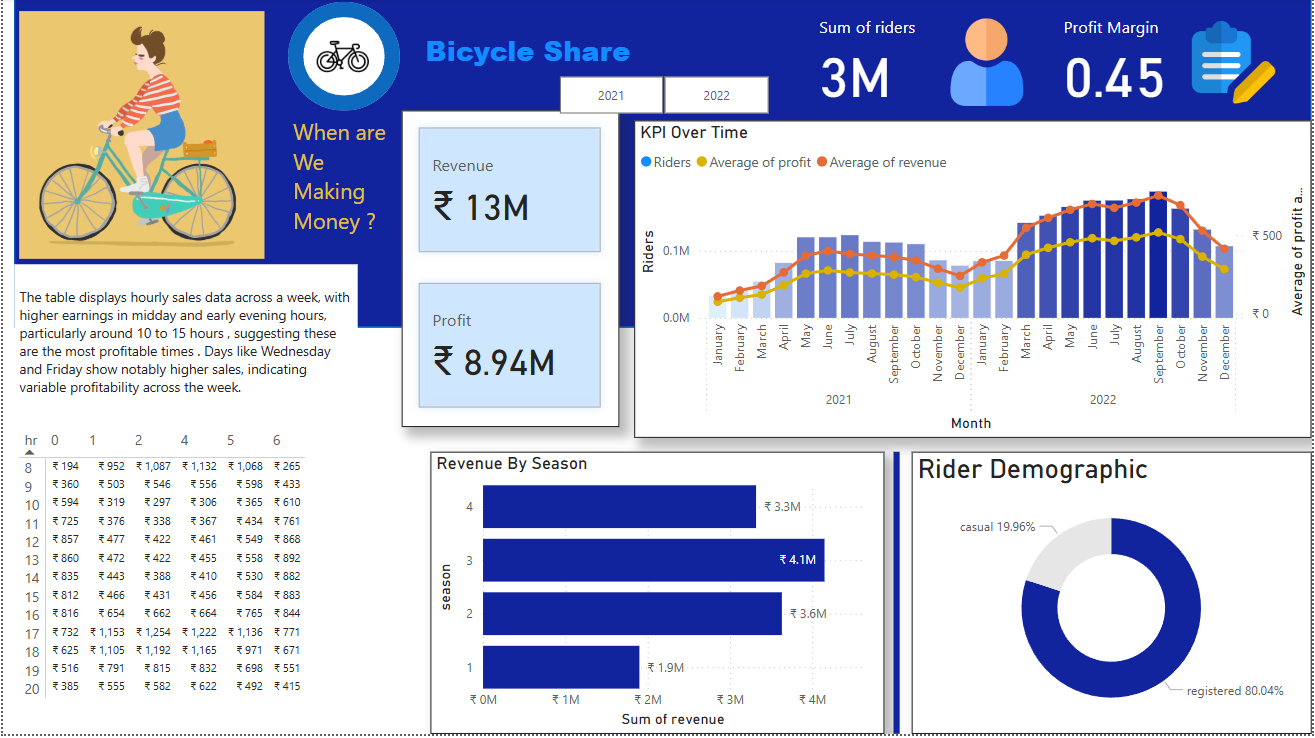

The dashboard page shown, as its layout file describes it:
{"tool":"powerbi","page":{"name":"Bicycle ","canvas":[1280,720],"ordinal":0},"visuals":[{"type":"shape","box":[10.7,0,1269,322.1],"z":0},{"type":"pivotTable","fields":{"Rows":["Query1.hr"],"Values":["Avg(Query1.revenue)"],"Columns":["Query1.weekday"]},"box":[11.4,418.1,335.6,275.9],"z":1000},{"type":"clusteredColumnChart","fields":{"Category":["Query1.riders"]},"box":[11.4,0,250.3,260.3],"z":2000},{"type":"textbox","box":[278.8,110.9,110.9,149.3],"z":3000},{"type":"textbox","box":[11.4,260.3,335.6,157.9],"z":4000},{"type":"lineStackedColumnComboChart","title":"KPI Over Time","fields":{"Category":["Query1.dteday.Variation.Date Hierarchy.Year","Query1.dteday.Variation.Date Hierarchy.Month","Query1.dteday.Variation.Date Hierarchy.Day"],"Y":["Sum(Query1.riders)"],"Y2":["Avg(Query1.profit)","Avg(Query1.revenue)"]},"box":[617.2,119.5,662.8,310],"z":5000},{"type":"clusteredBarChart","title":"Revenue By Season","fields":{"Category":["Query1.season"],"Y":["Sum(Query1.revenue)"]},"box":[418.1,443.7,443.7,275.9],"z":6000},{"type":"donutChart","title":"Rider Demographic","fields":{"Category":["Query1.rider_type"],"Y":["Sum(Query1.riders)"]},"box":[888.9,443.7,391.1,275.9],"z":7000},{"type":"shape","box":[722.5,443.7,302.9,275.9],"z":8000},{"type":"cardVisual","title":"KPI Over Time","fields":{"Data":["Sum(Query1.revenue)","Sum(Query1.profit)"]},"box":[390.1,110.1,212.8,309.4],"z":9000},{"type":"cardVisual","fields":{"Data":["Sum(Query1.riders)","Query1.Profit Margin"]},"box":[780.8,0,480.7,119.5],"z":10000},{"type":"shape","box":[278.8,4.3,109.5,106.7],"z":11000},{"type":"image","box":[300.1,27,65.4,61.2],"z":12000},{"type":"textbox","box":[408.2,27,372.6,71.1],"z":13000},{"type":"slicer","fields":{"Values":["Query1.Years"]},"box":[518.5,69.7,254.3,50.1],"z":14000}]}

Visuals, with their boxes in screenshot pixels (x1, y1, x2, y2), scaled from the page's 1280x720 canvas onto the 1315x738 screenshot:
shape: <box>11,0,1314,330</box>
pivotTable - Query1.hr x Avg(Query1.revenue): <box>12,429,356,711</box>
clusteredColumnChart - Query1.riders: <box>12,0,269,267</box>
textbox: <box>286,114,400,267</box>
textbox: <box>12,267,356,429</box>
"KPI Over Time" lineStackedColumnComboChart: <box>634,122,1314,440</box>
"Revenue By Season" clusteredBarChart: <box>430,455,885,737</box>
"Rider Demographic" donutChart: <box>913,455,1314,737</box>
shape: <box>742,455,1053,737</box>
"KPI Over Time" cardVisual: <box>401,113,619,430</box>
cardVisual - Sum(Query1.riders) x Query1.Profit Margin: <box>802,0,1296,122</box>
shape: <box>286,4,399,114</box>
image: <box>308,28,375,90</box>
textbox: <box>419,28,802,101</box>
slicer - Query1.Years: <box>533,71,794,123</box>
